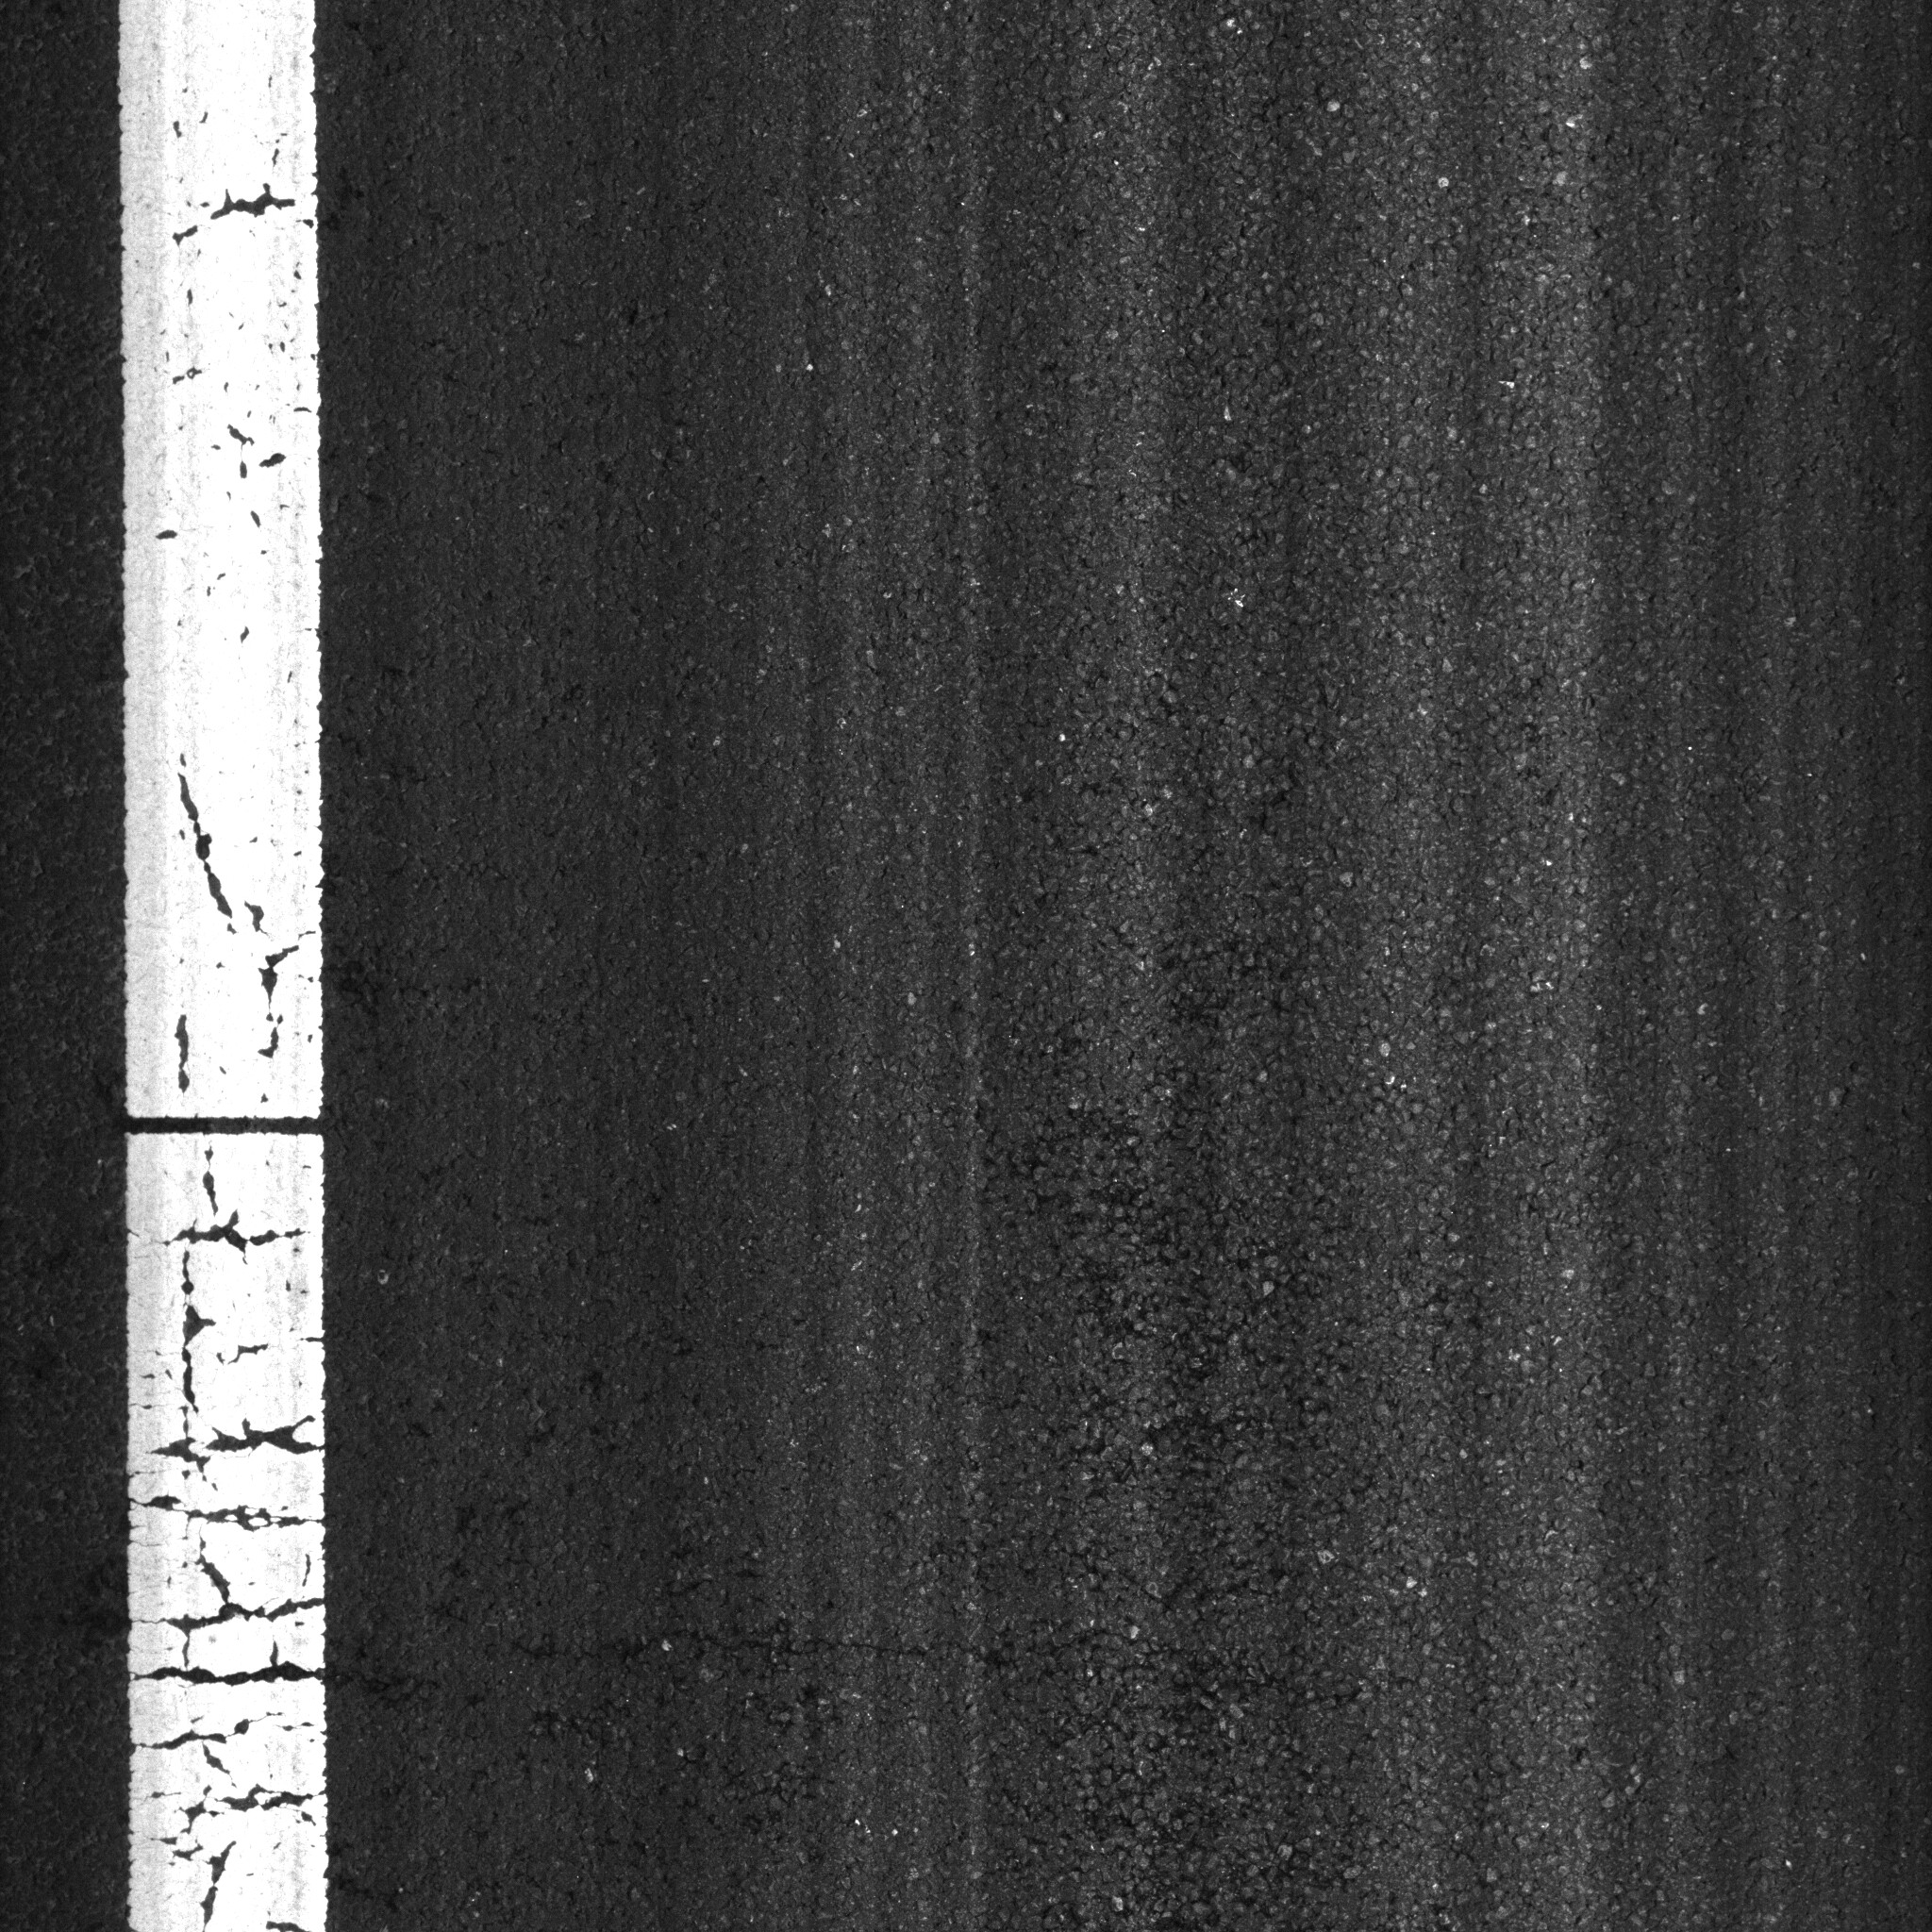transeverse: (589, 1606, 1329, 1711)
